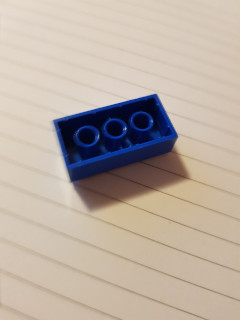2x4 blue: (48, 92, 183, 188)
